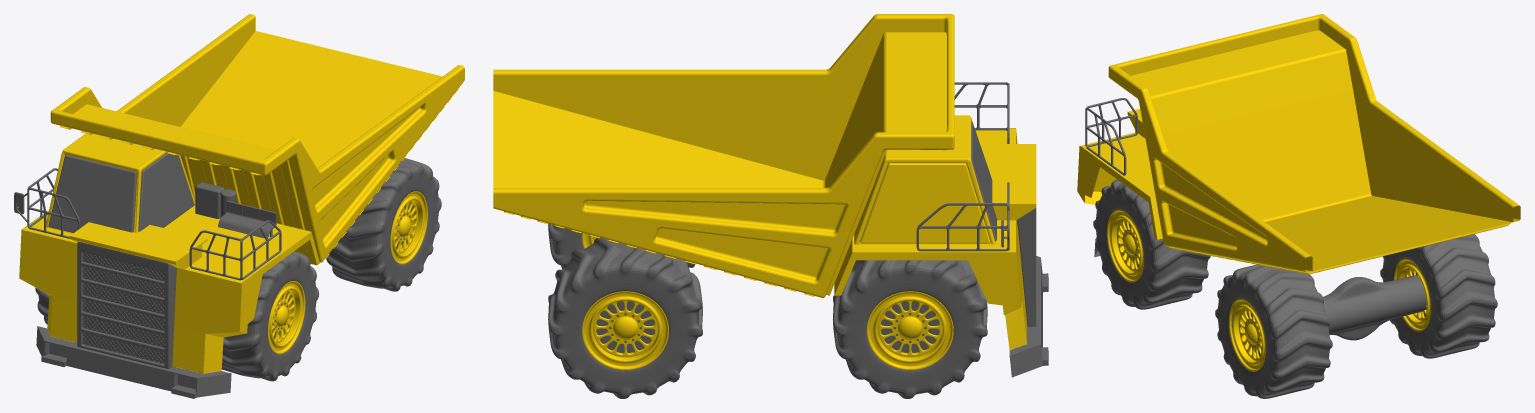
Rendered from Haul Truck.fbx.
The picture shows the model from 3 angles, left to right: view 1: azimuth 30°, elevation 25°; view 2: azimuth 150°, elevation 25°; view 3: azimuth 270°, elevation 25°; orthographic projection. The views are drawn at different scales.
Visible parts, largest first — view 1: Cube, Plane, Cube_002, Plane_002, Plane_001, Cylinder_004, Cylinder, Plane_005, Plane_003, Cube_001, Plane_004, Plane_006 (+5 smaller); view 2: Cube, Cylinder_004, Cylinder, Cube_002, Plane_001, Plane, Cylinder_005, Cylinder_001, Plane_004, Cylinder_006, Cylinder_002, Plane_005 (+2 smaller); view 3: Cube, Cylinder_004, Cylinder, Cylinder_010, Plane_001, Cylinder_005, Plane_004, Cylinder_001, Plane, Cylinder_006, Cube_001, Cylinder_002.
Part boxes in pixels (bbox=[...]): Cube: bbox=[50, 14, 464, 262]; Plane: bbox=[19, 214, 263, 373]; Cube_002: bbox=[46, 133, 195, 233]; Plane_002: bbox=[77, 241, 176, 368]; Plane_001: bbox=[22, 206, 319, 283]; Cylinder_004: bbox=[326, 158, 441, 291]; Cylinder: bbox=[35, 251, 319, 381]; Plane_005: bbox=[36, 326, 231, 398]; Plane_003: bbox=[82, 252, 164, 364]; Cube_001: bbox=[59, 89, 458, 264]; Plane_004: bbox=[27, 168, 281, 280]; Plane_006: bbox=[218, 200, 276, 238]; Cube: bbox=[493, 14, 954, 297]; Cylinder_004: bbox=[548, 223, 702, 398]; Cylinder: bbox=[833, 260, 987, 398]; Cube_002: bbox=[854, 115, 996, 244]; Plane_001: bbox=[834, 128, 1036, 295]; Plane: bbox=[965, 128, 1026, 349]; Cylinder_005: bbox=[582, 232, 668, 370]; Cylinder_001: bbox=[866, 291, 953, 370]; Plane_004: bbox=[916, 82, 1009, 251]; Cylinder_006: bbox=[593, 237, 657, 357]; Cylinder_002: bbox=[877, 300, 942, 357]; Plane_005: bbox=[1009, 256, 1048, 377]; Cube: bbox=[1108, 14, 1520, 272]; Cylinder_004: bbox=[1215, 234, 1497, 398]; Cylinder: bbox=[1093, 179, 1210, 309]; Cylinder_010: bbox=[1323, 274, 1426, 340]; Plane_001: bbox=[1080, 109, 1162, 239]; Cylinder_005: bbox=[1229, 258, 1430, 371]; Plane_004: bbox=[1085, 98, 1137, 175]; Cylinder_001: bbox=[1107, 209, 1143, 282]; Plane: bbox=[1077, 146, 1116, 204]; Cylinder_006: bbox=[1238, 267, 1426, 361]; Cube_001: bbox=[1168, 223, 1510, 274]; Cylinder_002: bbox=[1116, 218, 1139, 271].
Size of the model in its own units: 216 by 104 by 185.
